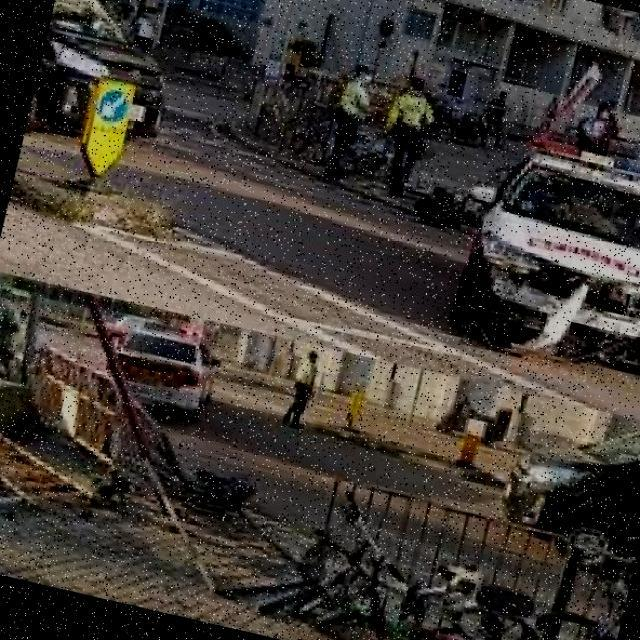accident: (428, 160, 640, 404)
